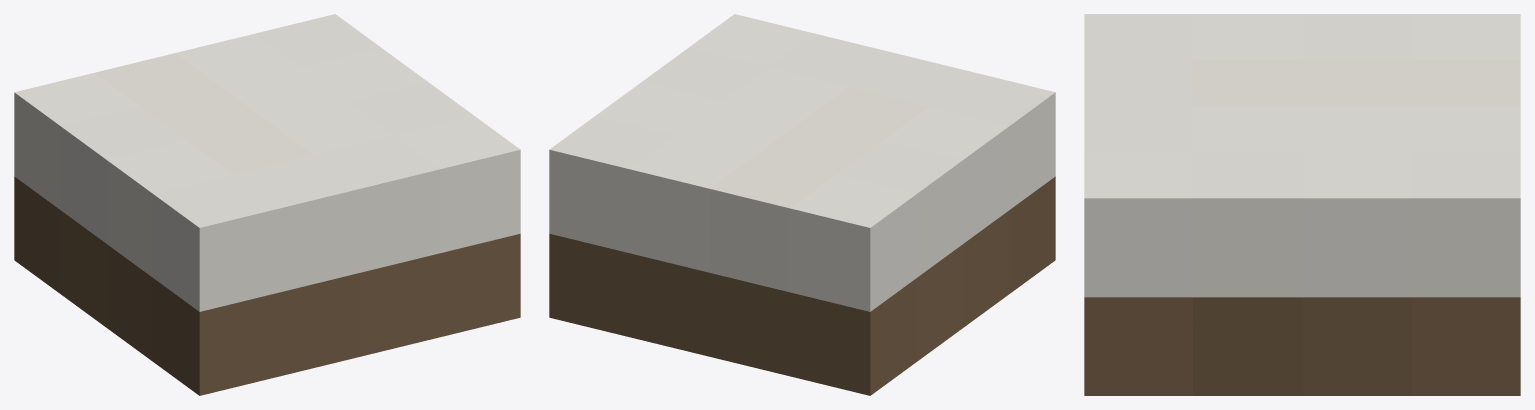
File: ground_cell.glb
3 views of the same model, side by side, from view 1: azimuth 30°, elevation 25°; view 2: azimuth 150°, elevation 25°; view 3: azimuth 270°, elevation 25° (orthographic). The views are drawn at different scales.
Parts seen in each view (by area): view 1: paint, body; view 2: paint, body; view 3: paint, body.
Part boxes in pixels (x1,y1,x2,y2): paint: [14, 14, 520, 311]; body: [14, 176, 520, 395]; paint: [549, 14, 1055, 311]; body: [549, 176, 1055, 395]; paint: [1084, 14, 1520, 297]; body: [1084, 297, 1520, 395].
Bounding box in the file's own units: 0.5 × 0.25 × 0.5.
Materials: 2 (2 with a texture image).
